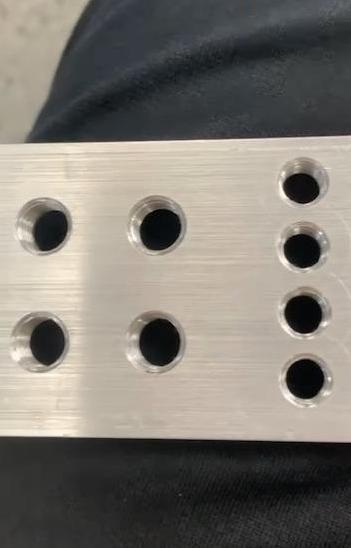hole: (120, 306, 186, 376), (125, 191, 191, 257), (7, 310, 70, 374), (275, 348, 340, 410), (14, 198, 74, 256), (275, 286, 331, 339), (276, 222, 332, 274), (278, 156, 332, 207)
